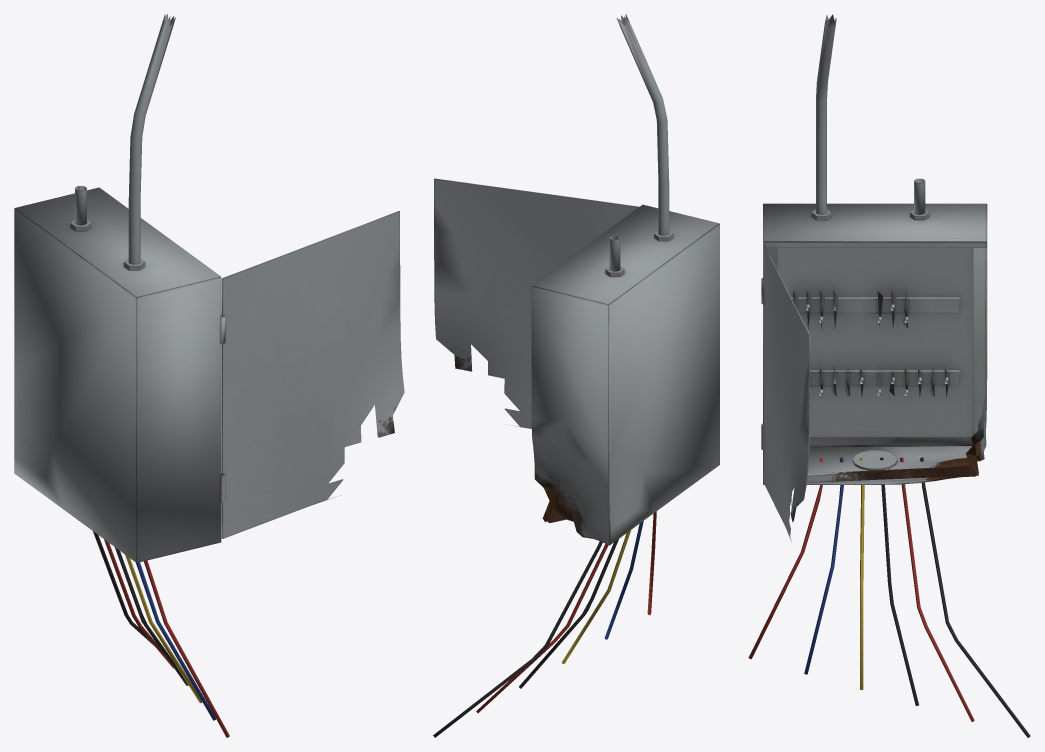
Rendered from industrial_junction_box_broken_lod1.glb.
3 renders of one model, left to right at view 1: azimuth 30°, elevation 25°; view 2: azimuth 150°, elevation 25°; view 3: azimuth 270°, elevation 25°, orthographic. The views are drawn at different scales.
Parts seen in each view (by area): view 1: industrial_junction_box_broken_paint, industrial_junction_box_broken_cable_red, industrial_junction_box_broken_rubber, industrial_junction_box_broken_cable_blue, industrial_junction_box_broken_cable_yellow; view 2: industrial_junction_box_broken_paint, industrial_junction_box_broken_rubber, industrial_junction_box_broken_cable_red, industrial_junction_box_broken_cable_yellow, industrial_junction_box_broken_cable_blue; view 3: industrial_junction_box_broken_paint, industrial_junction_box_broken_rubber, industrial_junction_box_broken_cable_red, industrial_junction_box_broken_dark, industrial_junction_box_broken_cable_yellow, industrial_junction_box_broken_cable_blue.
Boxes of the visible parts, <box> form: industrial_junction_box_broken_paint: <box>14,14,404,562</box>; industrial_junction_box_broken_cable_red: <box>104,539,229,737</box>; industrial_junction_box_broken_rubber: <box>93,531,188,685</box>; industrial_junction_box_broken_cable_blue: <box>135,562,215,720</box>; industrial_junction_box_broken_cable_yellow: <box>125,555,202,703</box>; industrial_junction_box_broken_paint: <box>434,14,719,545</box>; industrial_junction_box_broken_rubber: <box>433,539,618,737</box>; industrial_junction_box_broken_cable_red: <box>476,511,656,713</box>; industrial_junction_box_broken_cable_yellow: <box>561,530,630,663</box>; industrial_junction_box_broken_cable_blue: <box>604,521,643,639</box>; industrial_junction_box_broken_paint: <box>761,14,987,542</box>; industrial_junction_box_broken_rubber: <box>880,457,1030,737</box>; industrial_junction_box_broken_cable_red: <box>748,457,974,721</box>; industrial_junction_box_broken_dark: <box>793,290,949,397</box>; industrial_junction_box_broken_cable_yellow: <box>860,457,864,689</box>; industrial_junction_box_broken_cable_blue: <box>804,457,843,674</box>.
Size of the model in its own units: 0.6895 by 1.68 by 0.6318.
Materials: 7 (1 with a texture image).
